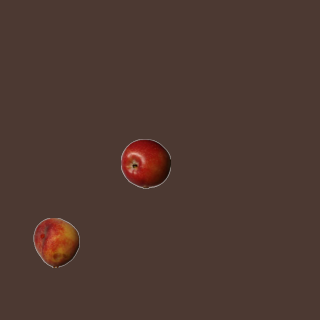Apple Braeburn: (120, 138, 170, 188)
Peach: (31, 217, 81, 267)
